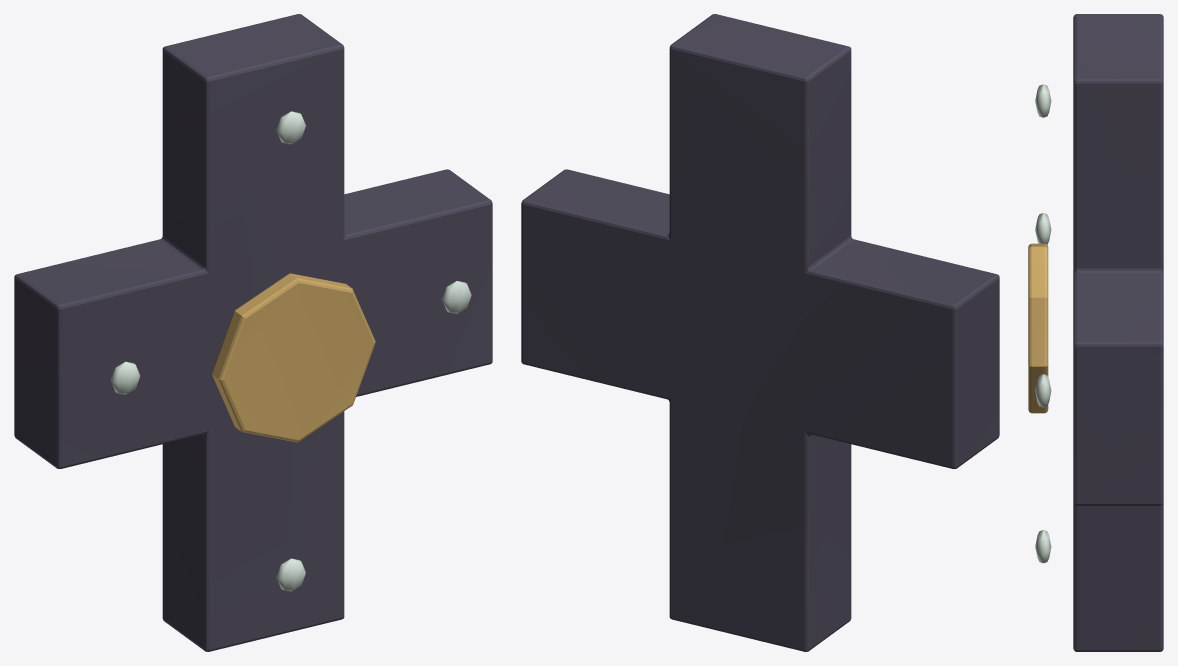
The model's file is item_060.glb.
The picture shows the model from 3 angles, left to right: view 1: azimuth 30°, elevation 25°; view 2: azimuth 150°, elevation 25°; view 3: azimuth 270°, elevation 25°; orthographic projection.
Visible parts, largest first — view 1: Item_060_funeral_cross; view 2: Item_060_funeral_cross; view 3: Item_060_funeral_cross.
Part boxes in pixels (x1,y1,x2,y2): Item_060_funeral_cross: [14, 14, 492, 651]; Item_060_funeral_cross: [521, 14, 999, 651]; Item_060_funeral_cross: [1028, 14, 1163, 651].
Bounding box in the file's own units: 0.5 × 0.63 × 0.135.
